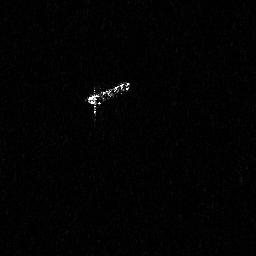ship: (84, 78, 131, 122)
